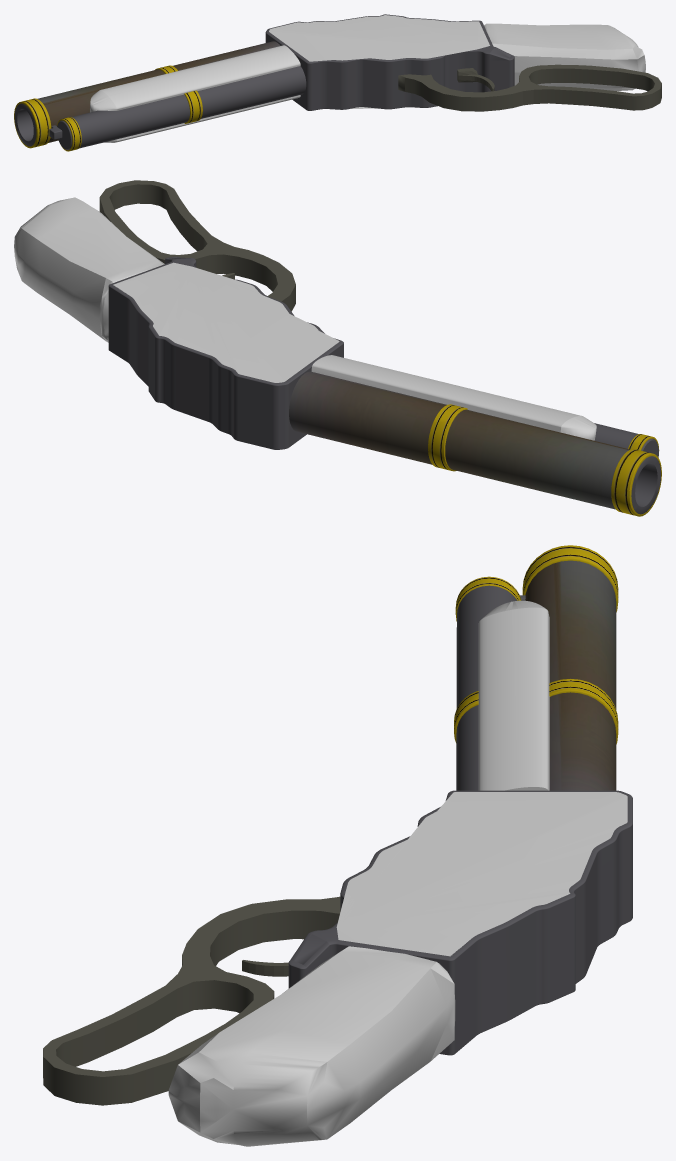
The picture shows the model from 3 angles, top to bottom: view 1: azimuth 30°, elevation 25°; view 2: azimuth 150°, elevation 25°; view 3: azimuth 270°, elevation 25°; orthographic projection. The views are drawn at different scales.
Parts seen in each view (by area): view 1: Gun_3, Gun_5, Gun_1, Gun_4, Gun_2, Gun_1.001, Gun_1_2.004, Gun_6, Gun_1_2.002, Gun_1_2.001; view 2: Gun_3, Gun_1.001, Gun_4, Gun_5, Gun_2, Gun_1_2.004, Gun_1_2.003, Gun_1; view 3: Gun_3, Gun_4, Gun_5, Gun_1.001, Gun_2, Gun_1, Gun_1_2.004, Gun_1_2.003.
Boxes of the visible parts, box(x1,y1,x2,y2) form: Gun_3: box(265, 14, 514, 110); Gun_5: box(398, 64, 661, 111); Gun_1: box(49, 66, 306, 149); Gun_4: box(484, 23, 645, 90); Gun_2: box(90, 45, 300, 142); Gun_1.001: box(14, 41, 280, 146); Gun_1_2.004: box(14, 98, 51, 148); Gun_6: box(457, 68, 494, 91); Gun_1_2.002: box(184, 90, 202, 123); Gun_1_2.001: box(57, 117, 81, 151); Gun_3: box(108, 256, 343, 449); Gun_1.001: box(289, 371, 660, 514); Gun_4: box(14, 197, 164, 342); Gun_5: box(99, 180, 295, 311); Gun_2: box(311, 355, 596, 440); Gun_1_2.004: box(611, 449, 661, 516); Gun_1_2.003: box(428, 404, 467, 471); Gun_1: box(435, 414, 658, 457); Gun_3: box(288, 790, 632, 1055); Gun_4: box(168, 946, 455, 1146); Gun_5: box(43, 896, 340, 1105); Gun_1.001: box(525, 560, 616, 790); Gun_2: box(478, 600, 549, 790); Gun_1: box(456, 585, 596, 790); Gun_1_2.004: box(522, 545, 618, 612); Gun_1_2.003: box(549, 679, 618, 744).
Bounding box in the file's own units: 296 × 26.52 × 142.
